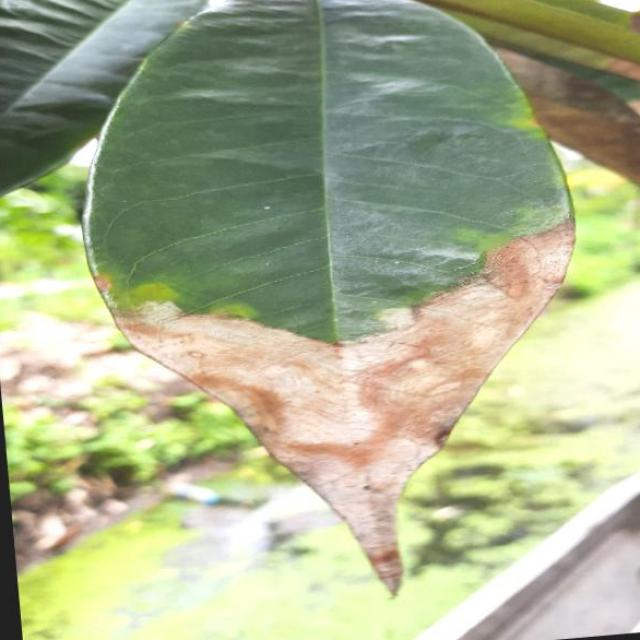Leaf Blight: (52, 0, 622, 628)
